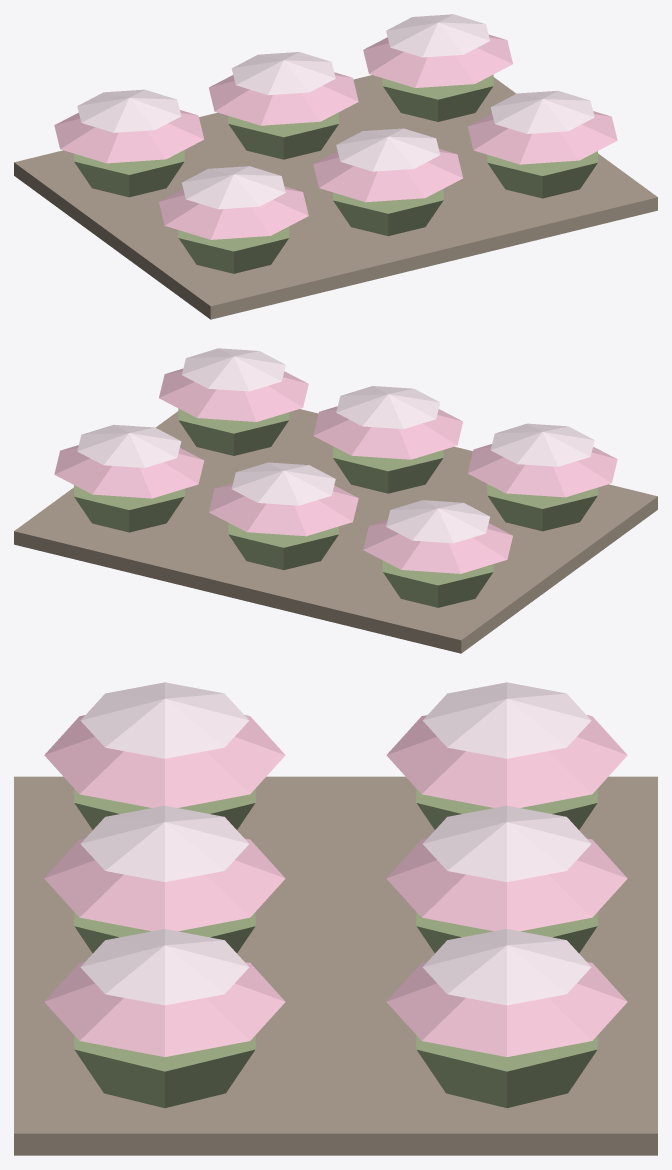
Rendered from flora_19_pink_grass_co_hong_suoi_vang_meadow_patch.glb.
The picture shows the model from 3 angles, top to bottom: view 1: azimuth 30°, elevation 25°; view 2: azimuth 150°, elevation 25°; view 3: azimuth 270°, elevation 25°; orthographic projection. The views are drawn at different scales.
Visible parts, largest first — view 1: flora_19_pink_grass_co_hong_suoi_vang_meadow_patch; view 2: flora_19_pink_grass_co_hong_suoi_vang_meadow_patch; view 3: flora_19_pink_grass_co_hong_suoi_vang_meadow_patch.
Boxes of the visible parts, x1,y1,x2,y2 form: flora_19_pink_grass_co_hong_suoi_vang_meadow_patch: (14, 14, 657, 319); flora_19_pink_grass_co_hong_suoi_vang_meadow_patch: (14, 348, 657, 653); flora_19_pink_grass_co_hong_suoi_vang_meadow_patch: (14, 682, 657, 1155).
Bounding box in the file's own units: 4.2 × 0.85 × 3.2.
